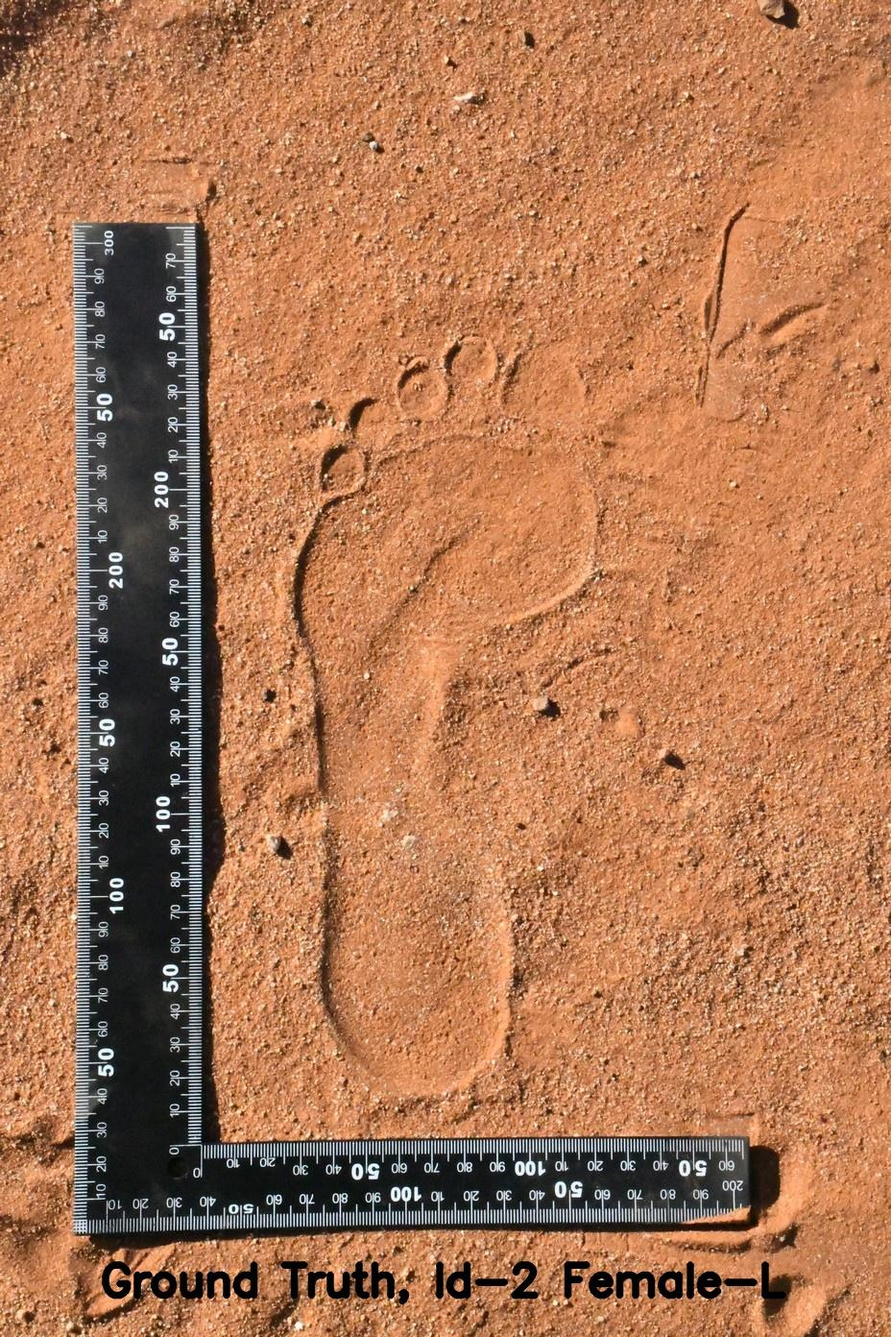human_footprint: (231, 280, 644, 1146)
